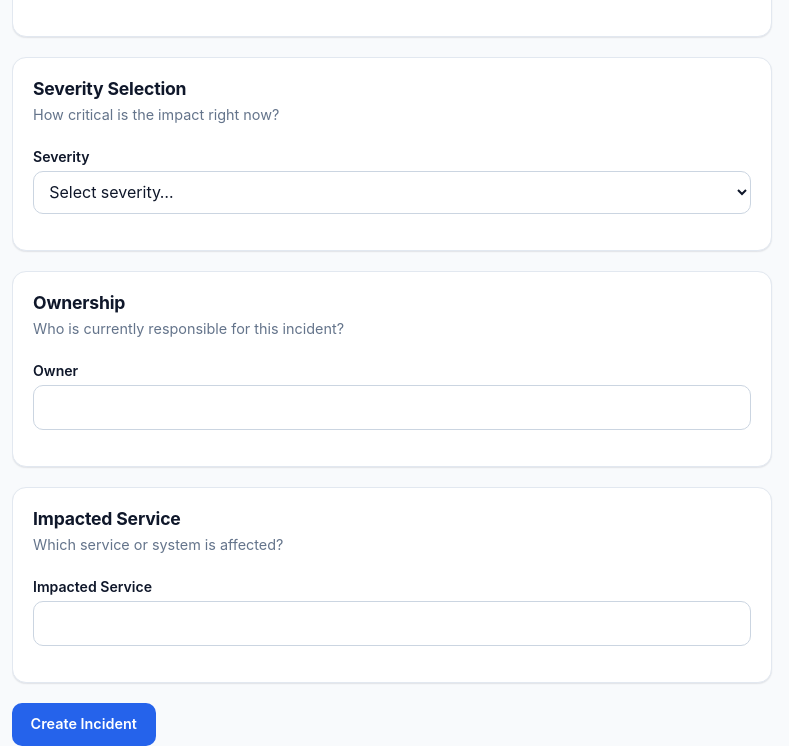
CreateIncidentPage › shows field-level validation errors when required fields are missing
This screenshot has width=789, height=746.
(page scrolled)
Click the button "Create Incident": (84, 724) [12,703,156,745]
(page scrolled)
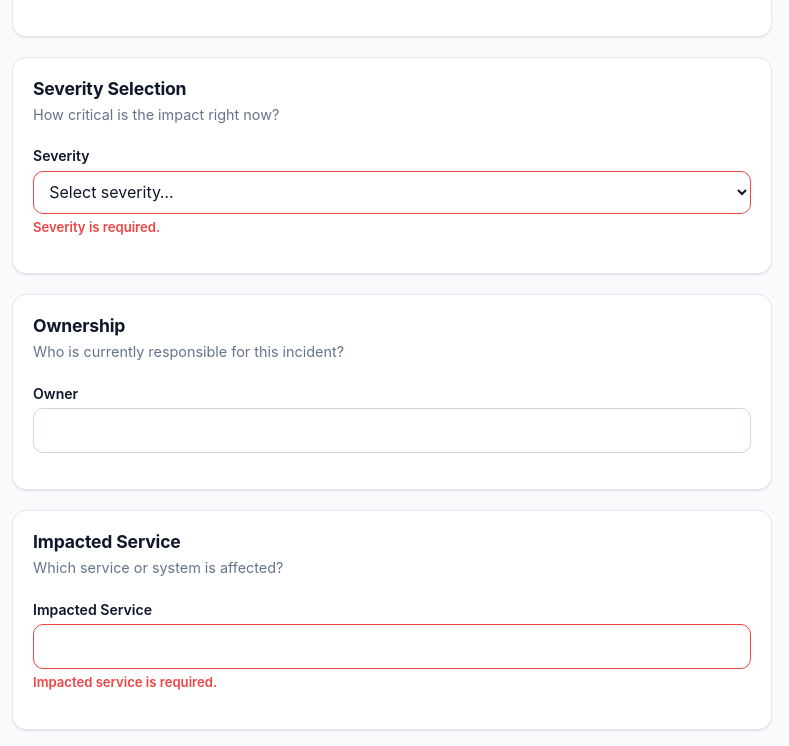
Result: the text "Severity is required." is shown at [33,219,160,235]
Result: the text "Impacted service is required." is shown at [33,674,217,690]
